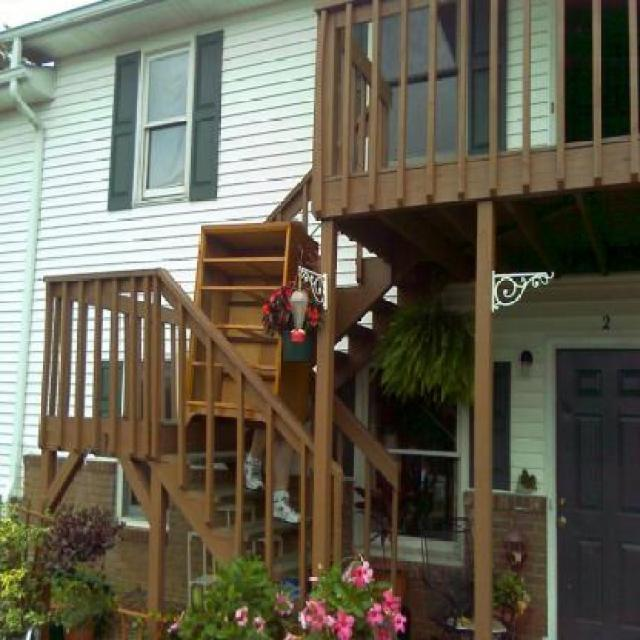stair: (39, 100, 402, 638)
